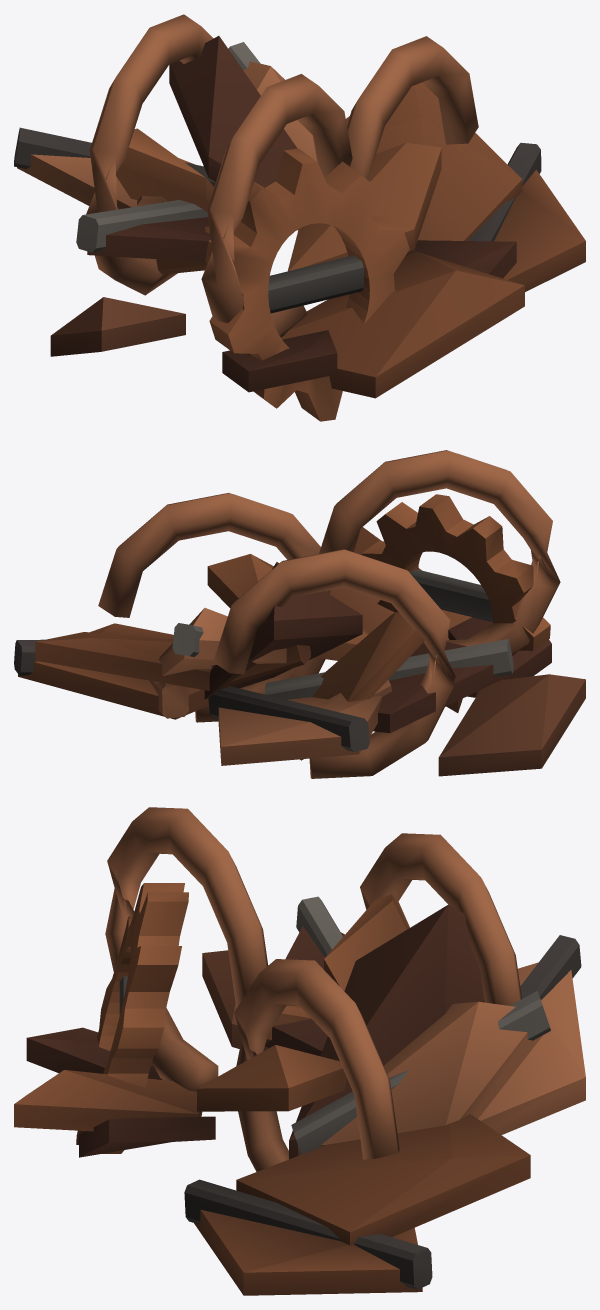
Rendered from building-magnetCrane-scrapSmall-v3.glb.
3 renders of one model, top to bottom at view 1: azimuth 30°, elevation 25°; view 2: azimuth 150°, elevation 25°; view 3: azimuth 270°, elevation 25°, orthographic. The views are drawn at different scales.
Parts seen in each view (by area): view 1: 0_magnetCrane-scrapSmall; view 2: 0_magnetCrane-scrapSmall; view 3: 0_magnetCrane-scrapSmall.
Boxes of the visible parts, x1,y1,x2,y2 form: 0_magnetCrane-scrapSmall: [14, 14, 585, 421]; 0_magnetCrane-scrapSmall: [14, 450, 585, 778]; 0_magnetCrane-scrapSmall: [14, 807, 585, 1295].
Bounding box in the file's own units: 1 × 0.5453 × 0.8429.
